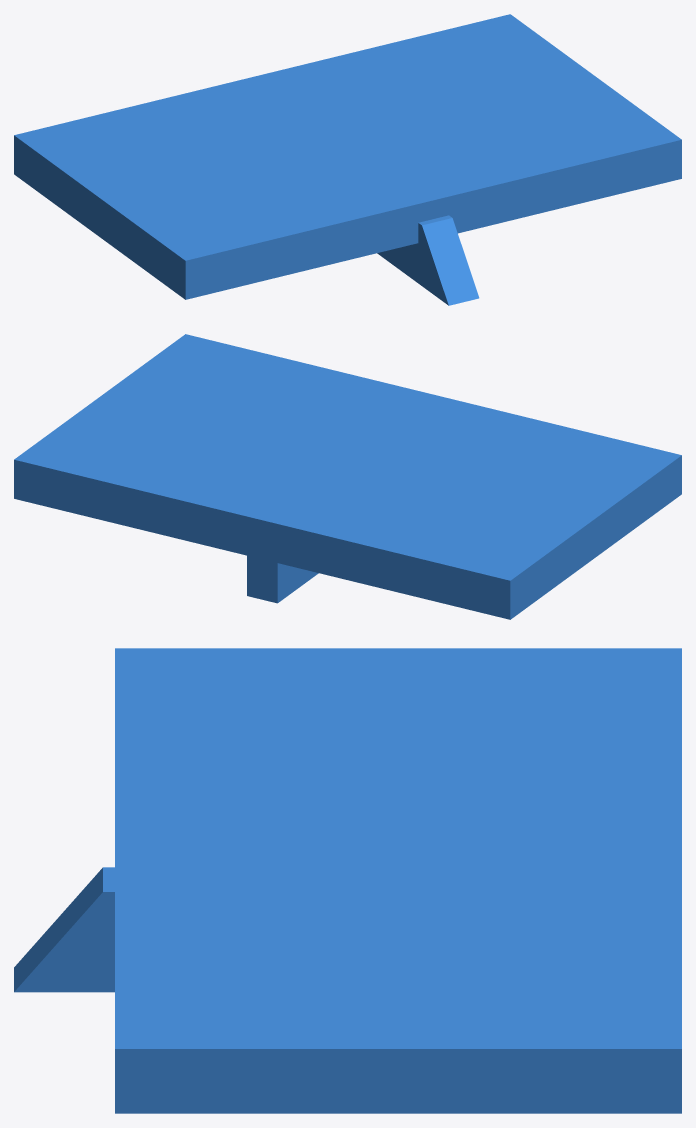
The model's file is Collision_Overhang_RoofIncline_Plaster.fbx.
3 views of the same model, one above another, from view 1: azimuth 30°, elevation 25°; view 2: azimuth 150°, elevation 25°; view 3: azimuth 270°, elevation 25° (orthographic). The views are drawn at different scales.
Parts seen in each view (by area): view 1: UCX_Overhang_RoofIncline_Plaster_1; view 2: UCX_Overhang_RoofIncline_Plaster_1; view 3: UCX_Overhang_RoofIncline_Plaster_1.
Boxes of the visible parts, x1,y1,x2,y2 form: UCX_Overhang_RoofIncline_Plaster_1: (14, 14, 681, 305); UCX_Overhang_RoofIncline_Plaster_1: (14, 334, 681, 619); UCX_Overhang_RoofIncline_Plaster_1: (14, 648, 681, 1113).
Bounding box in the file's own units: 200 × 30.61 × 141.
